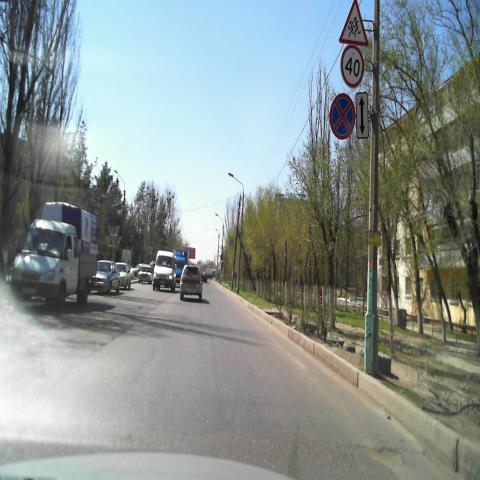8_2_4: (356, 91, 370, 141)
